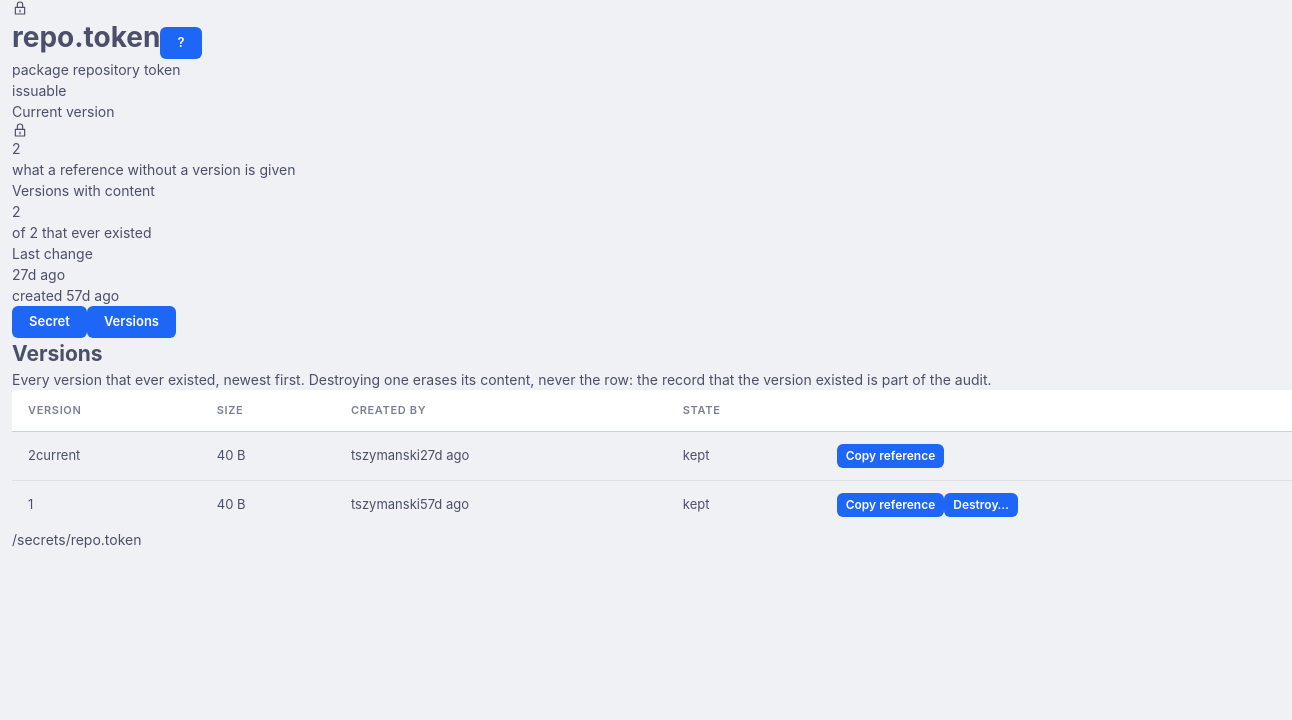
Test: one secret from the address › opens the secret the address names: its metadata, its versions, and no value anywhere
expect the row with test id "version-2" is shown: met, box [12,431,1291,480]
expect the row with test id "version-1" is shown: met, box [12,480,1291,529]
Click the tab "Secret" at point(49, 322), box [12,306,87,338]
(page scrolled)
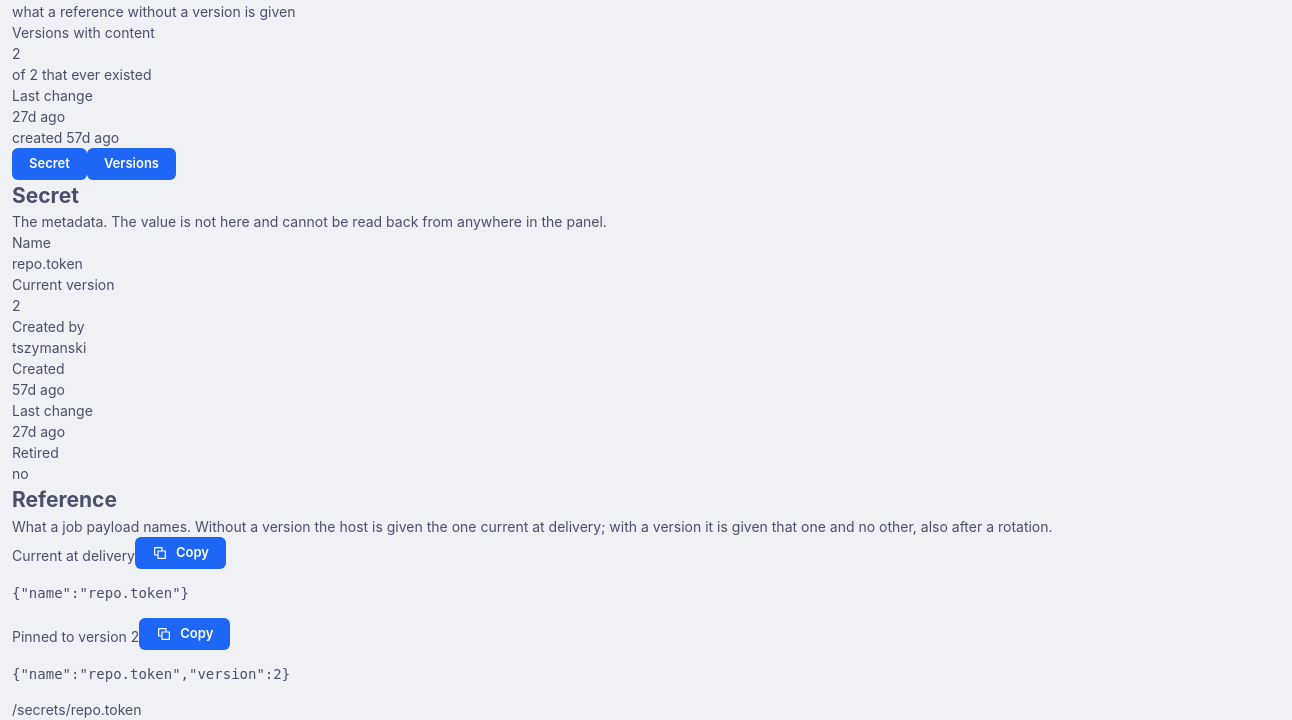
expect the text with test id "where" reads "/secrets/repo.token": met, box [12,701,142,718]
expect the element with test id "reference-current" shows "{\"name\":\"repo.token\"}": met, box [12,585,189,601]
expect the element with test id "reference-pinned" shows "{\"name\":\"repo.token\",\"version\":2}": met, box [12,666,290,682]
